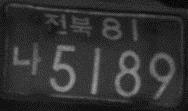1: (87, 46, 103, 95), (129, 16, 141, 42)
5: (48, 44, 77, 92)
8: (113, 49, 144, 99), (100, 17, 123, 41)
9: (148, 52, 177, 99)
나: (10, 39, 42, 77)
전북_O: (43, 11, 93, 39)
